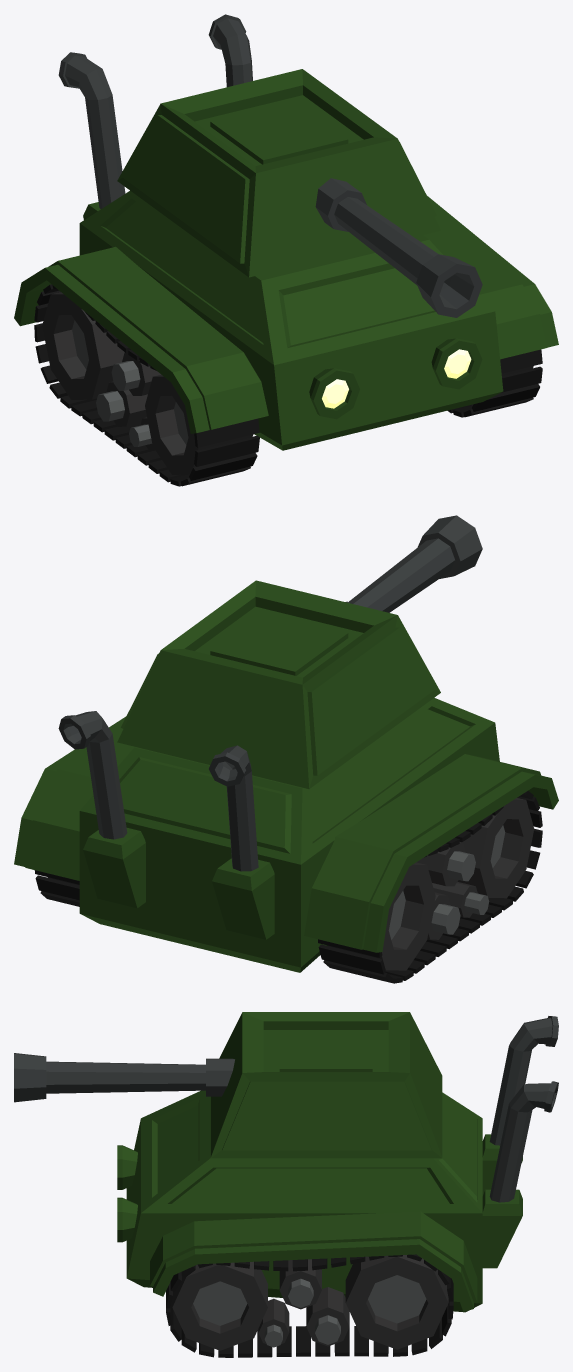
The model's file is low-poly_tank.glb.
3 renders of one model, top to bottom at view 1: azimuth 30°, elevation 25°; view 2: azimuth 150°, elevation 25°; view 3: azimuth 270°, elevation 25°, orthographic. The views are drawn at different scales.
Visible parts, largest first — view 1: body, head, mudflaps, thread, cannon, exhausts, rear wheel_0.001, headlights, front wheel, mid rear wheel, mid top wheel; view 2: head, body, mudflaps, exhausts, thread, cannon, front wheel, rear wheel_0.001, mid top wheel, mid front wheel, mid rear wheel; view 3: body, head, mudflaps, exhausts, rear wheel, cannon, thread, front wheel_0.001, mid rear wheel, front wheel, headlights, mid top wheel (+1 smaller).
Part boxes in pixels (bbox=[...]): body: bbox=[79, 190, 503, 450]; head: bbox=[117, 69, 440, 277]; mudflaps: bbox=[14, 196, 558, 433]; thread: bbox=[34, 284, 542, 486]; cannon: bbox=[315, 178, 482, 317]; exhausts: bbox=[58, 14, 252, 219]; rear wheel_0.001: bbox=[42, 292, 124, 399]; headlights: bbox=[309, 338, 482, 419]; front wheel: bbox=[145, 374, 253, 474]; mid rear wheel: bbox=[96, 381, 147, 426]; mid top wheel: bbox=[111, 352, 160, 395]; head: bbox=[117, 580, 440, 788]; body: bbox=[79, 698, 499, 972]; mudflaps: bbox=[14, 716, 558, 952]; exhausts: bbox=[58, 711, 274, 939]; thread: bbox=[34, 791, 542, 983]; cannon: bbox=[345, 515, 482, 612]; front wheel: bbox=[457, 798, 534, 898]; rear wheel_0.001: bbox=[328, 862, 435, 970]; mid top wheel: bbox=[416, 842, 475, 886]; mid front wheel: bbox=[432, 882, 489, 917]; mid rear wheel: bbox=[427, 892, 460, 939]; body: bbox=[126, 1090, 482, 1312]; head: bbox=[210, 1012, 442, 1158]; mudflaps: bbox=[150, 1211, 477, 1311]; exhausts: bbox=[482, 1016, 558, 1268]; rear wheel: bbox=[345, 1255, 448, 1349]; cannon: bbox=[14, 1053, 234, 1102]; thread: bbox=[166, 1254, 453, 1357]; front wheel_0.001: bbox=[172, 1261, 267, 1350]; mid rear wheel: bbox=[306, 1287, 349, 1346]; front wheel: bbox=[193, 1281, 247, 1325]; headlights: bbox=[117, 1145, 137, 1242]; mid top wheel: bbox=[279, 1259, 321, 1309].
Size of the model in its own units: 3.28 by 2.37 by 4.85.
